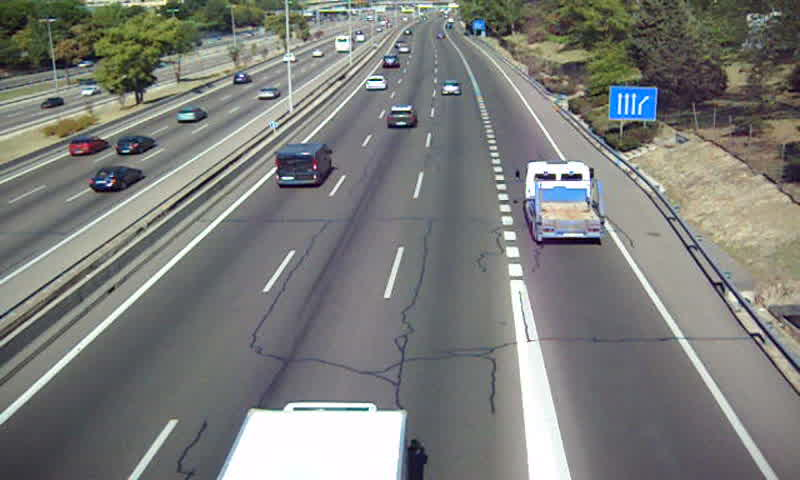car: (387, 105, 415, 129), (440, 80, 462, 98), (364, 75, 386, 91), (381, 54, 400, 69)
small-truck: (525, 161, 606, 239)
van: (275, 143, 333, 188)
